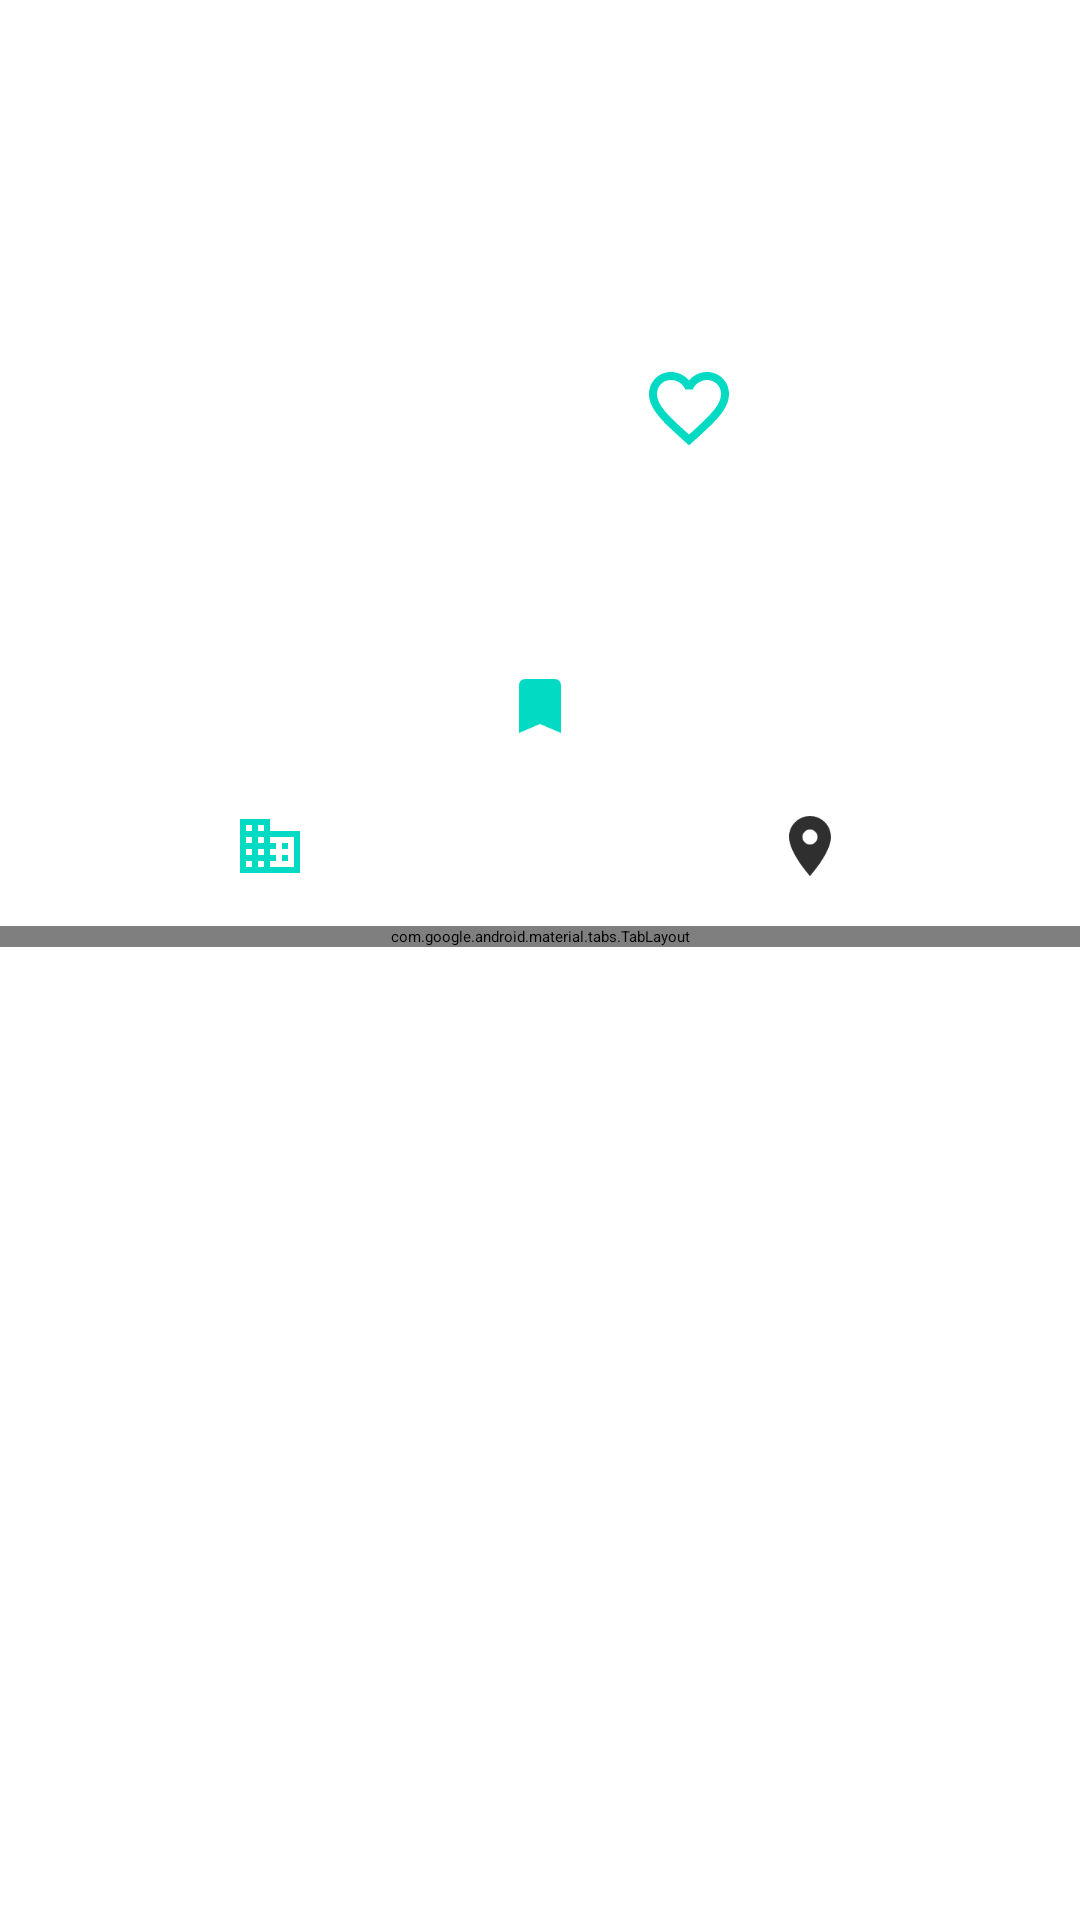

Screen size 1080 × 1920. Icon name, then its box in pixels as (x1, y1, x2, y2):
favorite border: (649, 372, 729, 445)
